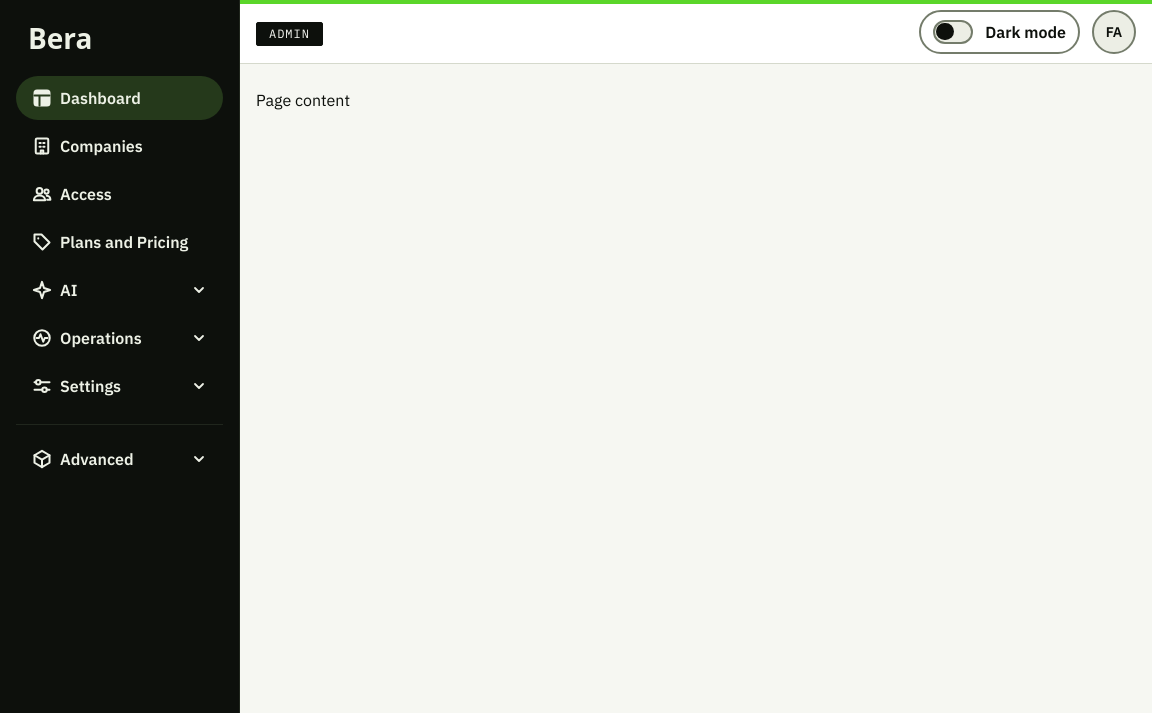
Scenario: sub-menus › opens one at a time
Click the button "AI": [120, 290] box [16, 268, 223, 312]
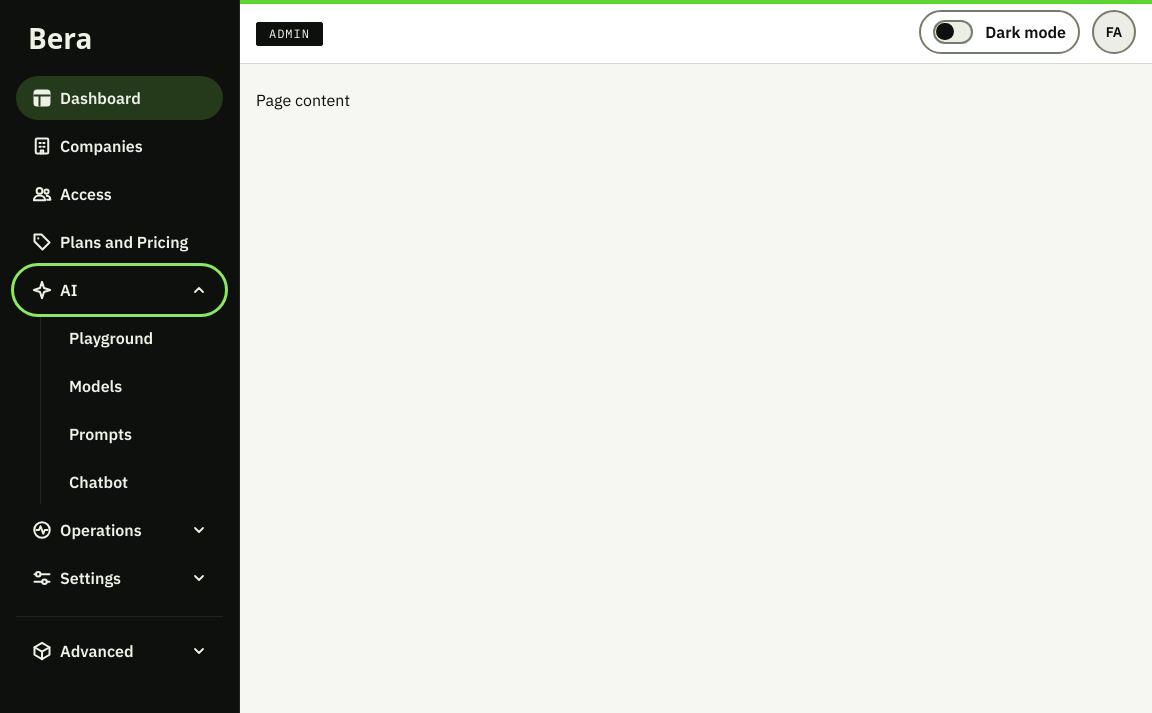
Click the button "Operations": [120, 530] box [16, 508, 223, 552]
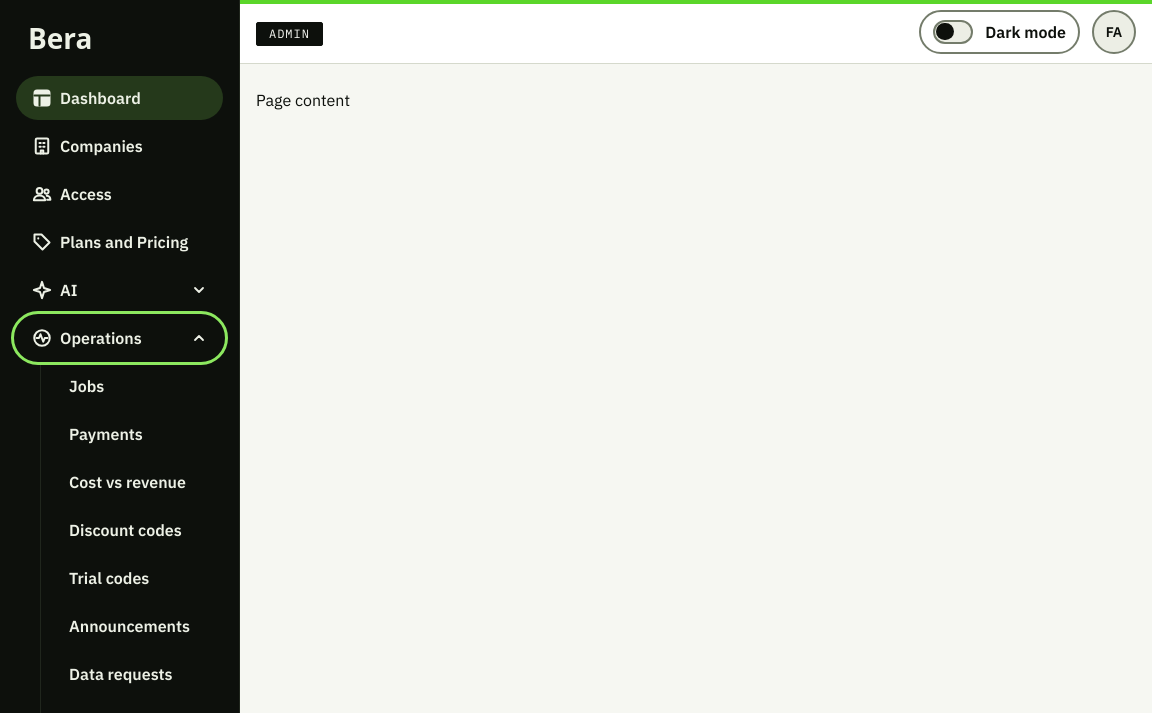
expect the link "Playground" is gone: met
expect the link "Jobs" is shown: met, box [69, 376, 104, 396]
